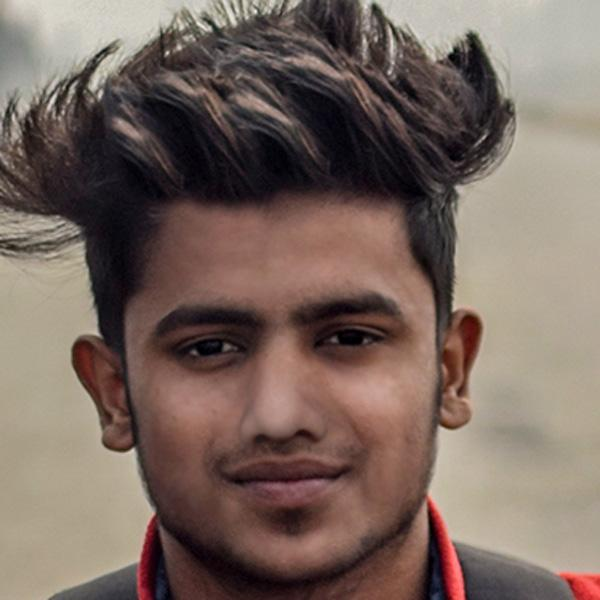Eyes: (166, 325, 254, 377), (303, 316, 397, 364)
